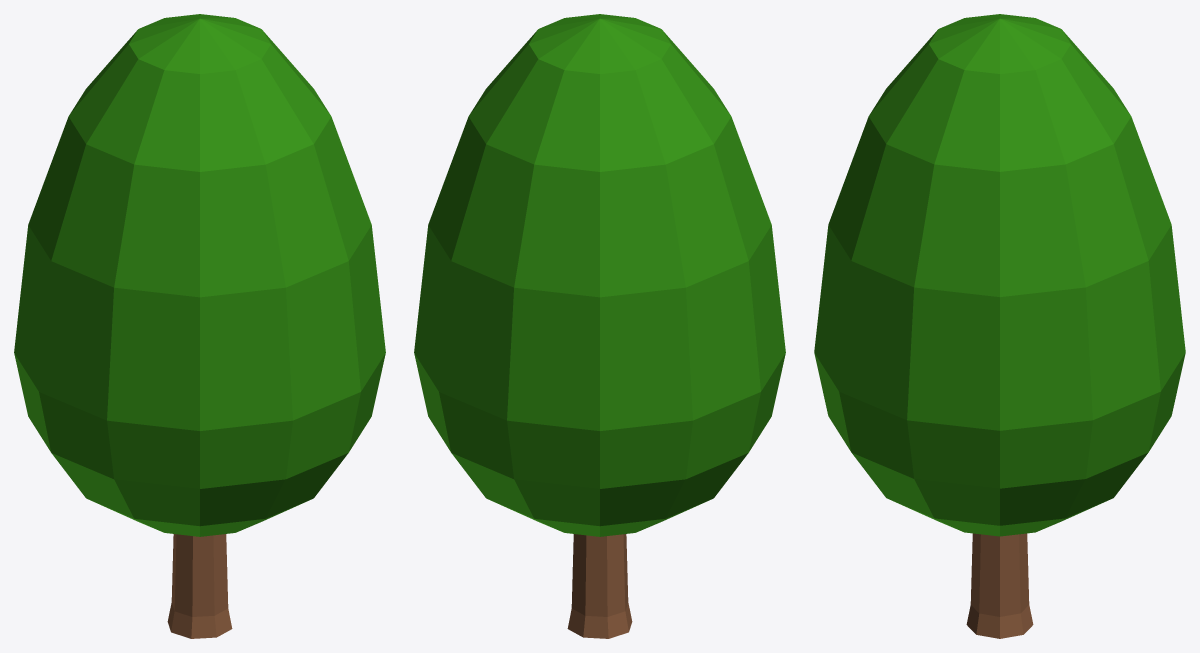
File: Prop_Decorative_Tree_Elm_2.obj
The picture shows the model from 3 angles, left to right: view 1: azimuth 30°, elevation 25°; view 2: azimuth 150°, elevation 25°; view 3: azimuth 270°, elevation 25°; orthographic projection.
Visible parts, largest first — view 1: Leaves, Trunk; view 2: Leaves, Trunk; view 3: Leaves, Trunk.
Boxes of the visible parts, x1=… form: Leaves: x1=14, y1=14, x2=385, y2=536; Trunk: x1=167, y1=534, x2=232, y2=638; Leaves: x1=414, y1=14, x2=785, y2=536; Trunk: x1=567, y1=534, x2=632, y2=638; Leaves: x1=814, y1=14, x2=1185, y2=536; Trunk: x1=966, y1=533, x2=1033, y2=638.
Size of the model in its own units: 2.5 by 4.5 by 2.5.
